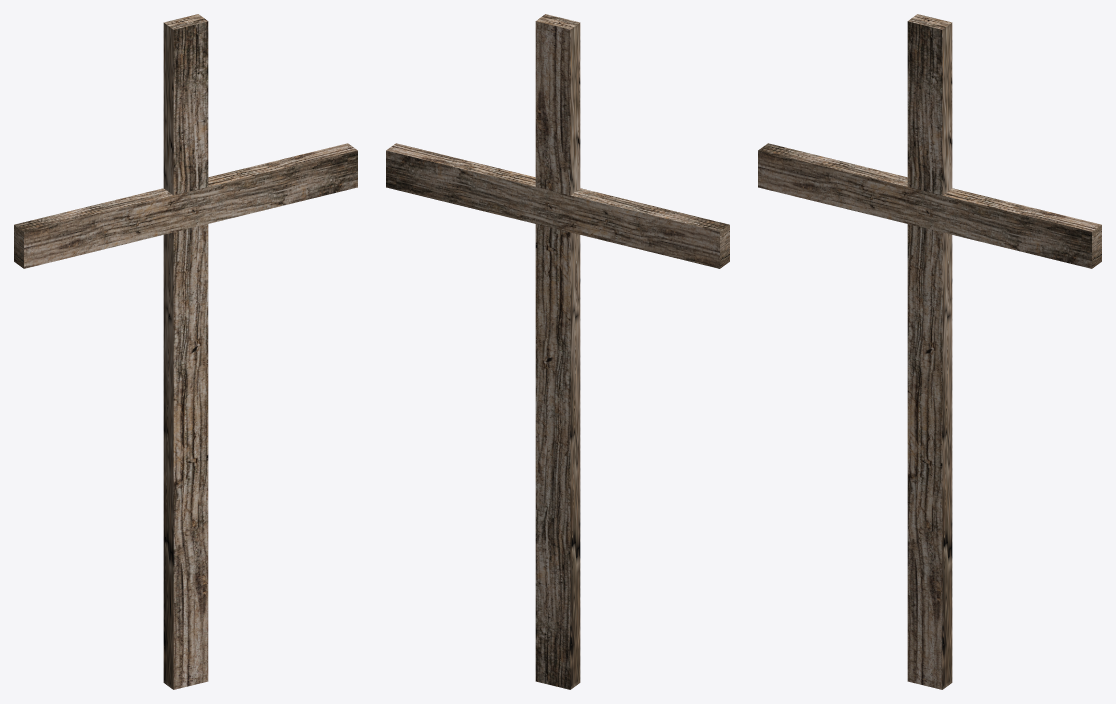
The model's file is WoodenCross.fbx.
The picture shows the model from 3 angles, left to right: view 1: azimuth 30°, elevation 25°; view 2: azimuth 150°, elevation 25°; view 3: azimuth 330°, elevation 25°; orthographic projection.
Parts seen in each view (by area): view 1: pCube1, pCube2; view 2: pCube1, pCube2; view 3: pCube1, pCube2.
Part boxes in pixels (x1,y1,x2,y2): pCube1: (163,14,208,689); pCube2: (14,143,357,268); pCube1: (535,14,580,689); pCube2: (386,143,729,268); pCube1: (907,14,952,689); pCube2: (758,143,1101,268).
Size of the model in its own units: 40.28 by 76.12 by 2.07.
Materials: 1 (1 with a texture image).
